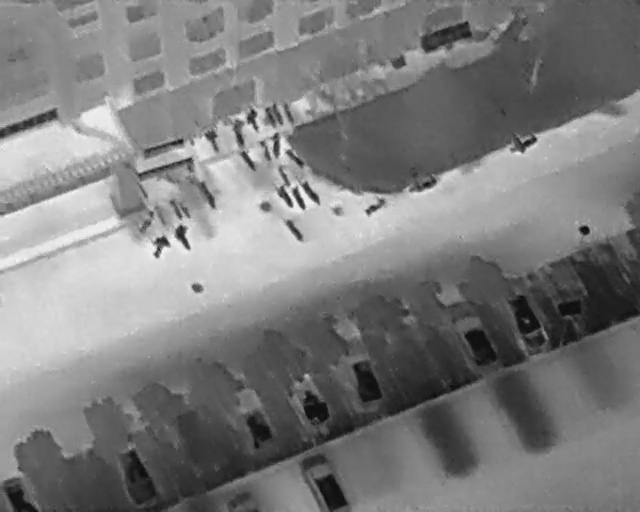Bicycle: (503, 127, 542, 160), (403, 170, 442, 198), (169, 220, 200, 255), (193, 178, 221, 213), (145, 230, 174, 263), (131, 206, 160, 238), (297, 176, 325, 208), (283, 215, 308, 246), (360, 194, 390, 219), (273, 182, 297, 213), (200, 125, 224, 156), (241, 103, 264, 135), (282, 143, 308, 170), (288, 182, 309, 213), (149, 202, 171, 231), (229, 117, 250, 147), (237, 146, 260, 173), (259, 104, 280, 133), (165, 197, 186, 223), (274, 163, 294, 190), (268, 100, 287, 128), (279, 99, 298, 127), (256, 136, 275, 163), (271, 131, 282, 158), (180, 204, 195, 223)
Car: (224, 382, 280, 455), (106, 438, 162, 510), (501, 285, 555, 358), (282, 368, 338, 438), (450, 308, 505, 379), (338, 346, 389, 416), (299, 453, 355, 510), (0, 472, 38, 510), (226, 491, 260, 510)
